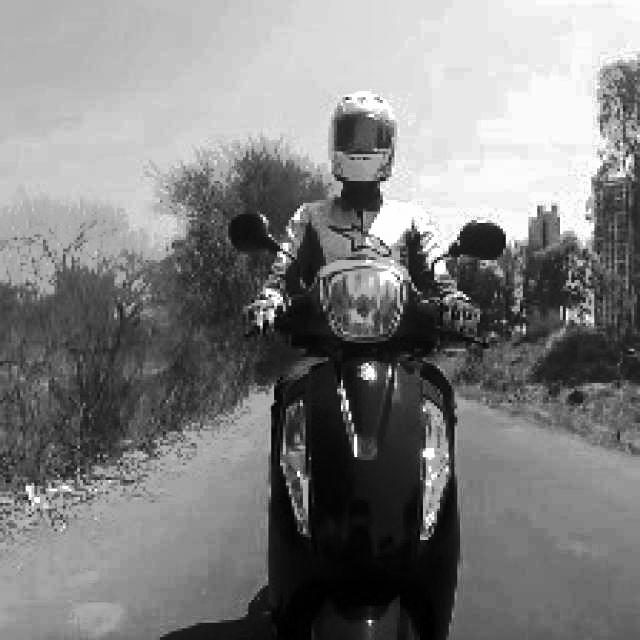Bike: (243, 237, 480, 639)
